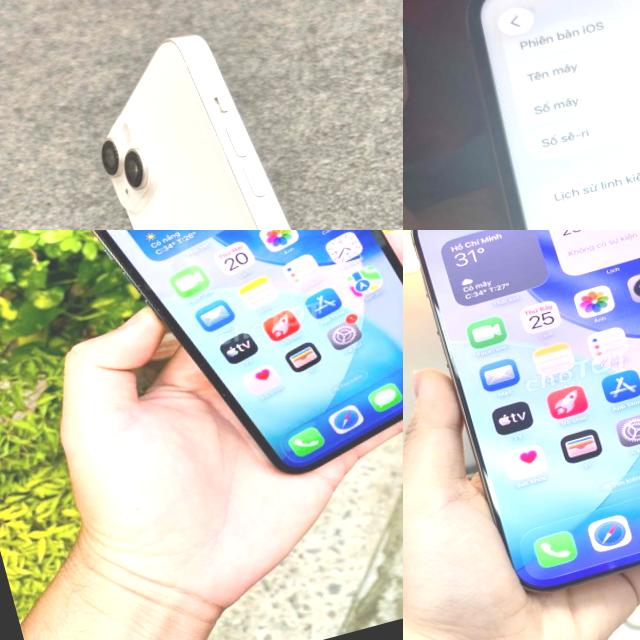gen_12_13: (57, 230, 403, 512), (425, 0, 640, 230)
gen_14: (53, 0, 393, 230)
gen_16: (403, 230, 640, 619)
